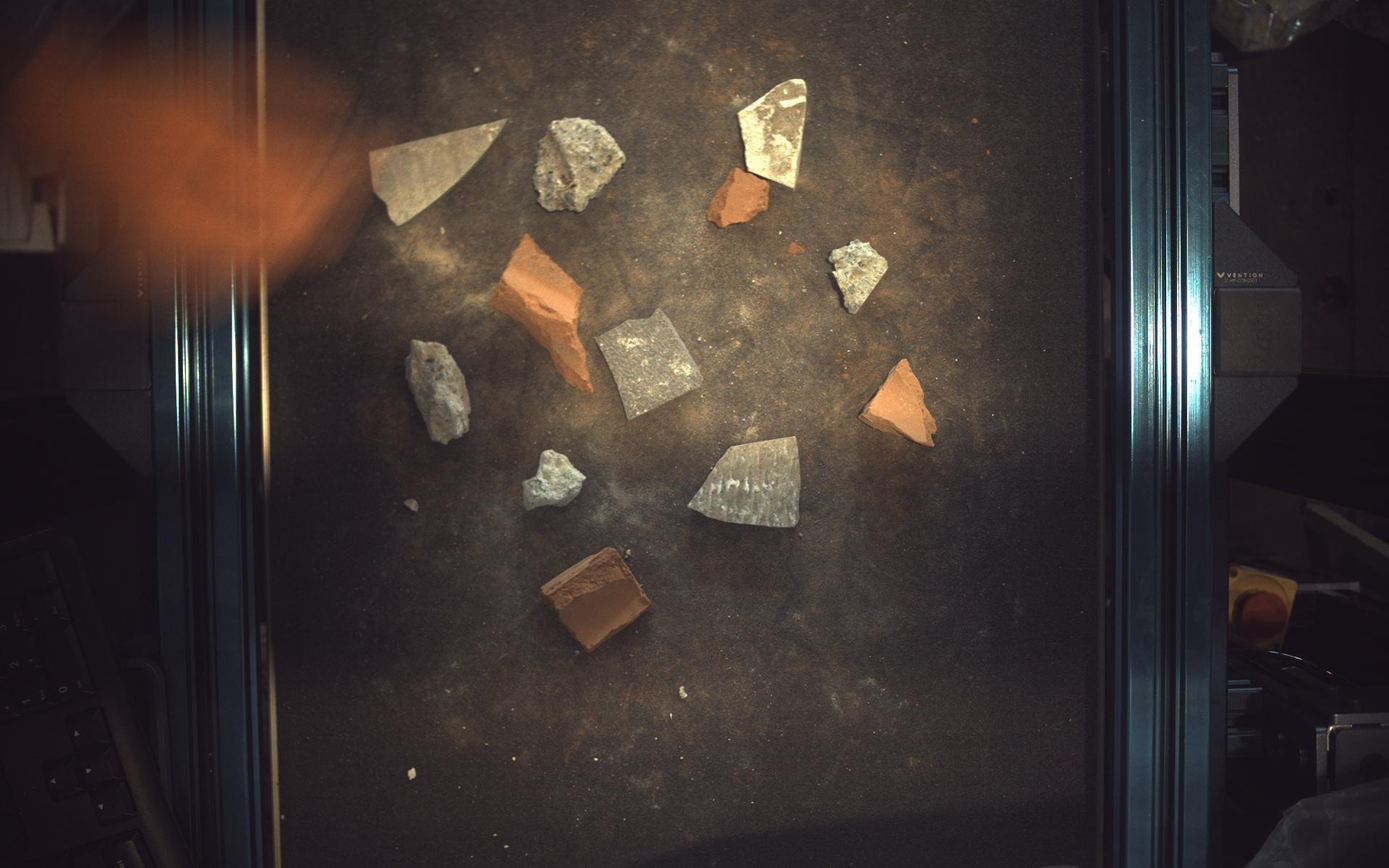brick: (490, 234, 593, 392), (540, 548, 651, 652), (861, 358, 938, 447), (708, 166, 771, 226)
concrete: (534, 116, 626, 211), (405, 339, 470, 443), (830, 239, 889, 314), (523, 449, 586, 511)
tile: (369, 118, 507, 225), (595, 308, 704, 420), (689, 436, 802, 528), (739, 77, 809, 187)
